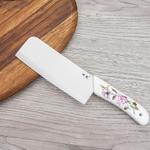knief: (17, 36, 147, 125)
